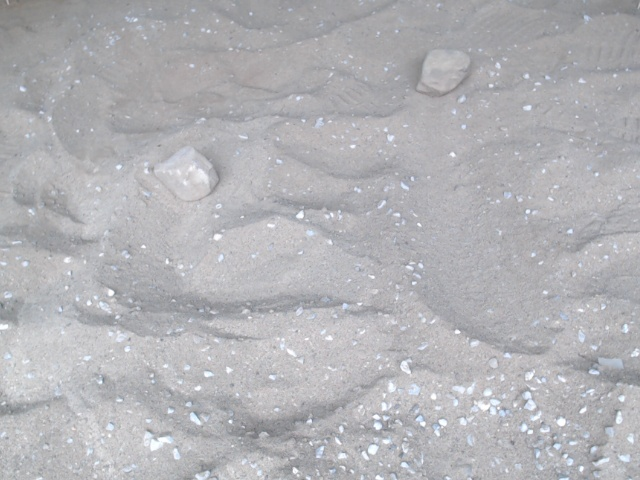rock: (147, 141, 224, 208), (409, 41, 476, 102)
